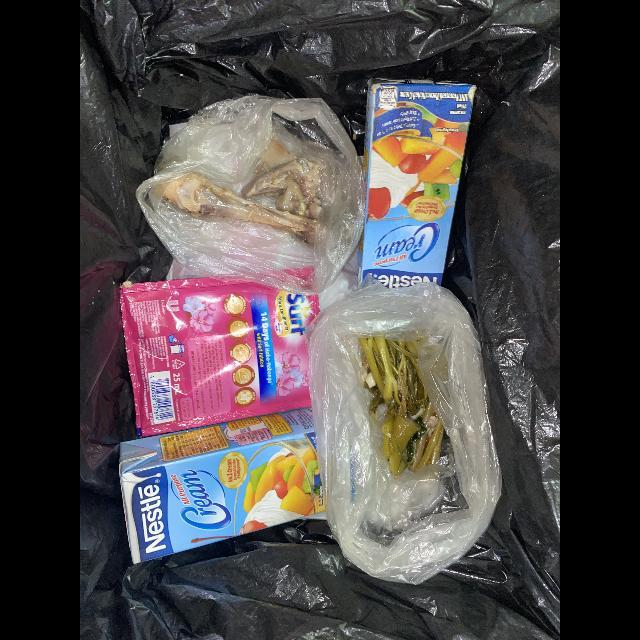biowaste: (163, 140, 326, 242), (358, 337, 444, 477)
paper: (118, 408, 326, 566), (358, 79, 476, 290)
plastic: (309, 289, 502, 587), (136, 95, 366, 295)
wrapper: (119, 268, 320, 439)
